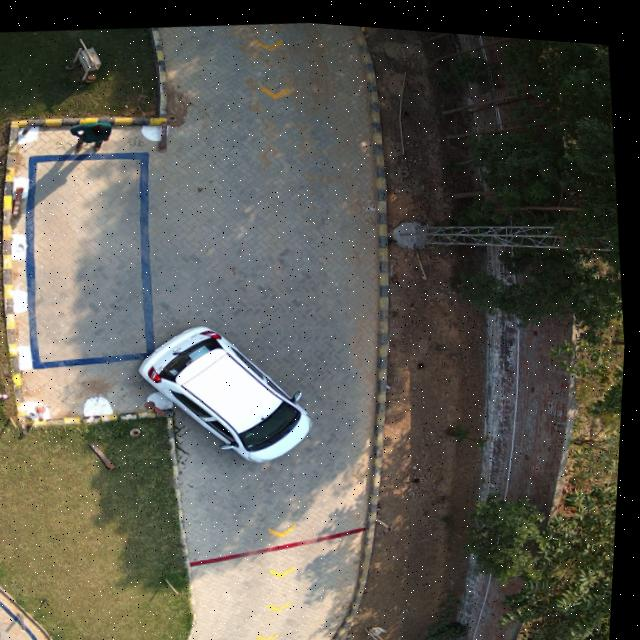car: (140, 323, 316, 461)
